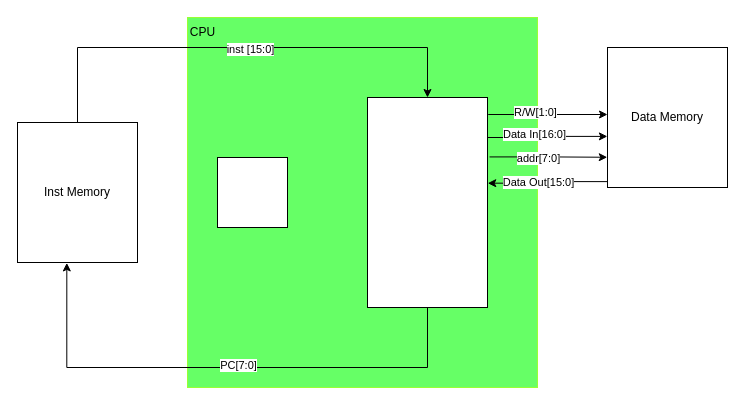
The diagram is 745 pixels wide and 405 high, and some of its shapes have lost their labels. Each missing label, with the centre of its shape:
FSM: point 252,192
Inst Interpreter Z N C Register A Register B: point 427,202
